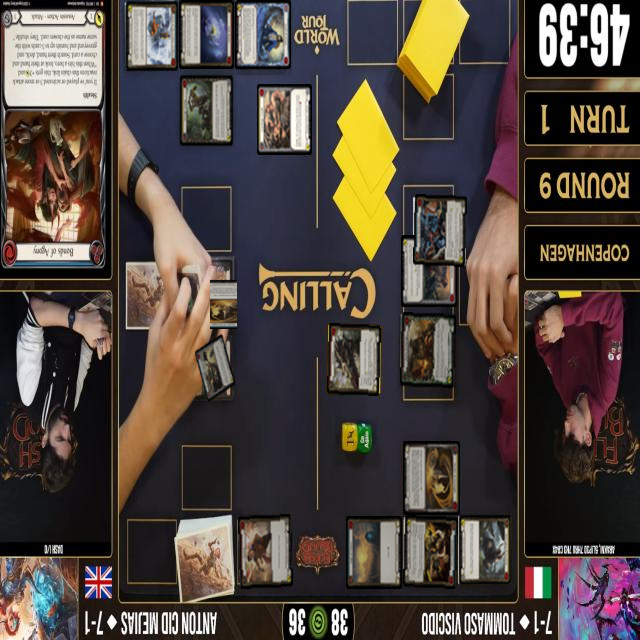Alpha_Rampage_WTR006: (399, 312, 456, 388)
Barraging_Brawnhide_WTR177: (457, 514, 512, 586)
Cartilage_Crush_WTR061: (256, 84, 312, 155)
Debilitate_WTR066: (401, 235, 457, 307)
Demolition_Crew_WTR181: (402, 515, 457, 589)
Disable_WTR050: (193, 333, 235, 403)
Flock_of_the_Feather_Walkers_WTR184: (124, 0, 178, 72)
Last_Ditch_Effort_WTR161: (412, 194, 467, 267)
Lord_of_Wind_WTR081: (234, 0, 291, 69)
Pummel_WTR206: (327, 323, 381, 396)
Savage_Swing_WTR021: (178, 74, 234, 147)
Sigil_of_Solace_WTR175: (345, 516, 401, 589)
Sink_Below_WTR215: (178, 0, 234, 69)
Snatch_WTR167: (238, 513, 293, 588)
Stroke_of_Foresight_WTR139: (402, 441, 459, 515)
Stroke_of_Foresight_WTR140: (209, 256, 236, 328)
